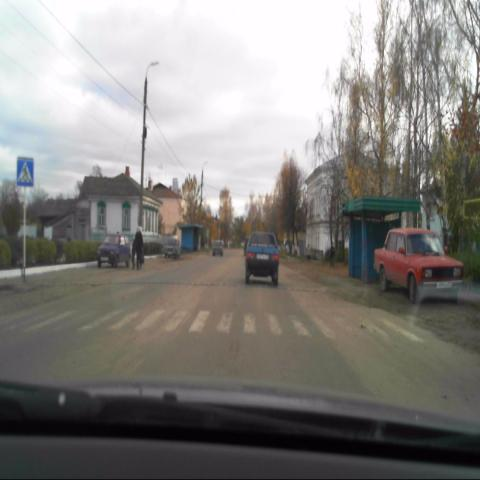5_19_1: (16, 158, 34, 188)
